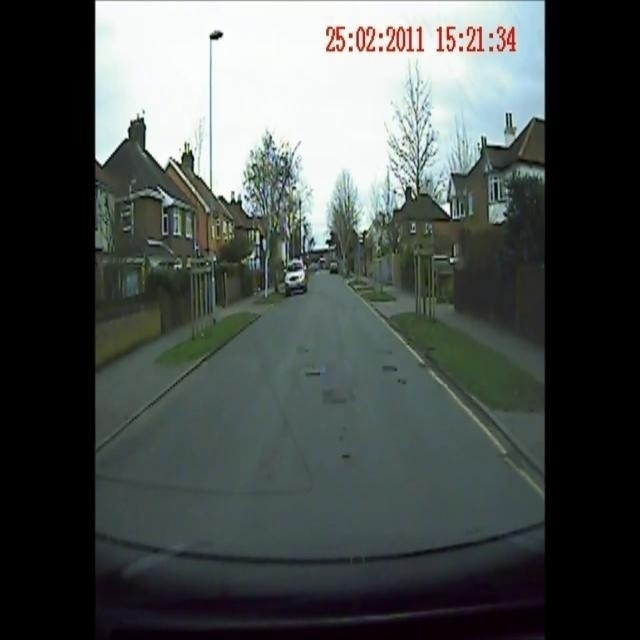pothole: (316, 373, 364, 414), (379, 346, 412, 397), (332, 436, 359, 472), (293, 334, 315, 366), (300, 362, 330, 384), (410, 354, 440, 374)
